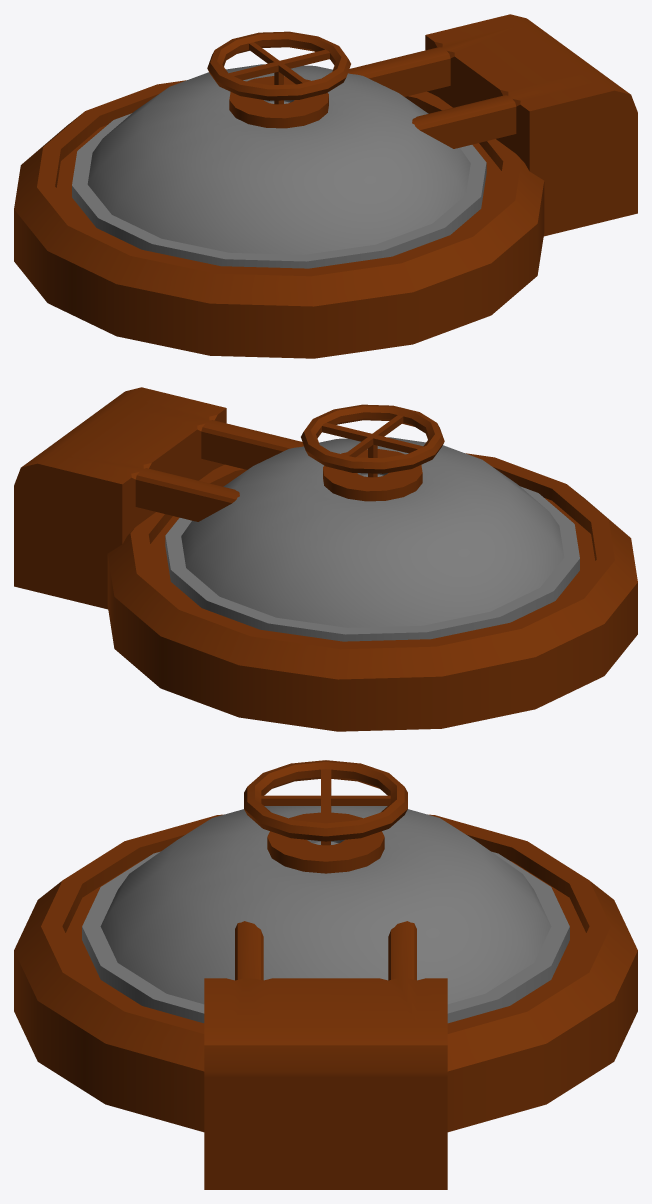
The model's file is HatchDoor.fbx.
The picture shows the model from 3 angles, top to bottom: view 1: azimuth 30°, elevation 25°; view 2: azimuth 150°, elevation 25°; view 3: azimuth 270°, elevation 25°; orthographic projection. The views are drawn at different scales.
Visible parts, largest first — view 1: Cylinder, Cube, Torus; view 2: Cylinder, Cube, Torus; view 3: Cylinder, Cube, Torus.
Boxes of the visible parts, x1,y1,x2,y2 form: Cylinder: (14,64,544,358); Cube: (348,14,637,236); Torus: (207,31,350,104); Cylinder: (107,437,637,731); Cube: (14,387,303,609); Torus: (301,404,444,477); Cylinder: (14,806,637,1132); Cube: (204,921,447,1189); Torus: (244,760,407,845).
Bounding box in the file's own units: 2.32 × 0.7877 × 2.
